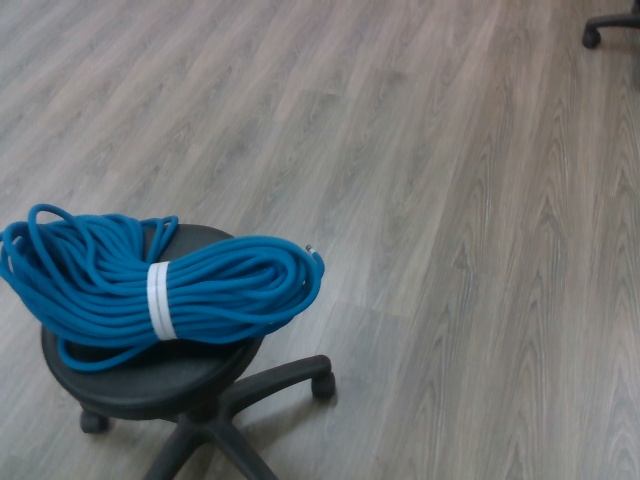rope: (2, 199, 326, 375)
